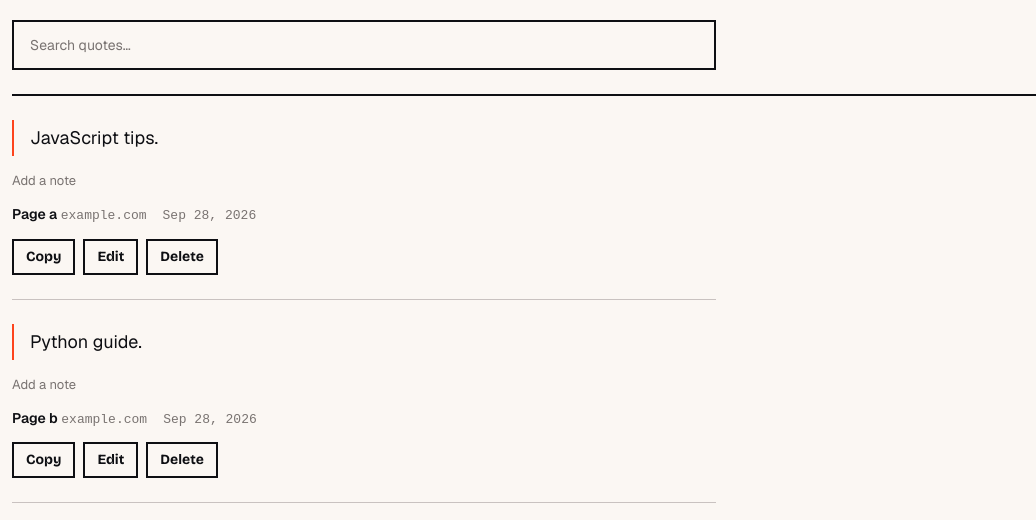
it: QuotesPage › searches text and notes on the server once typing pauses
The width and height of the screenshot is (1036, 520).
Expected: the text "Python guide." is shown, x1=12 y1=324 x2=716 y2=360
Type "javascript" into the search field labelled "Search quotes" at (364, 45), box x1=12 y1=20 x2=716 y2=70
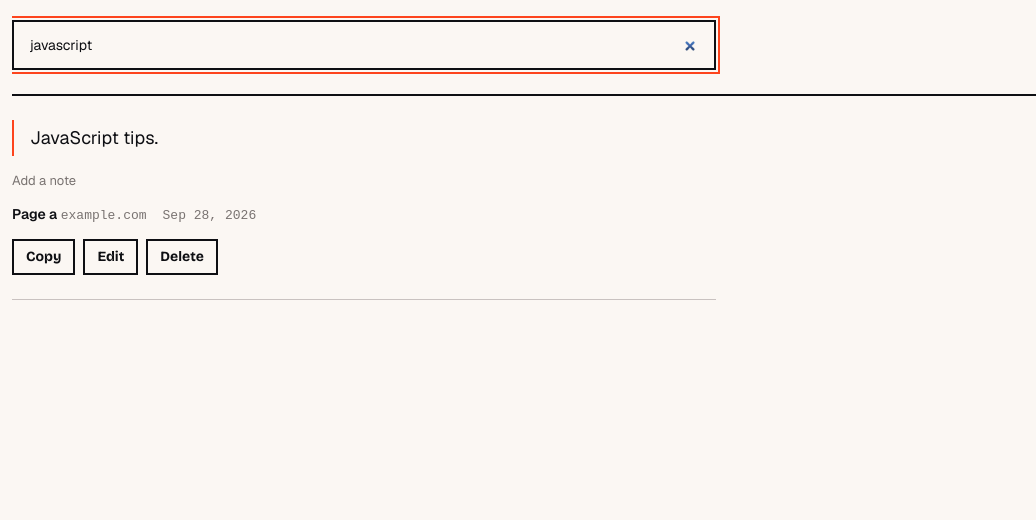
Expected: the text "JavaScript tips." is shown, x1=12 y1=120 x2=716 y2=156
Now the text "Python guide." is gone
